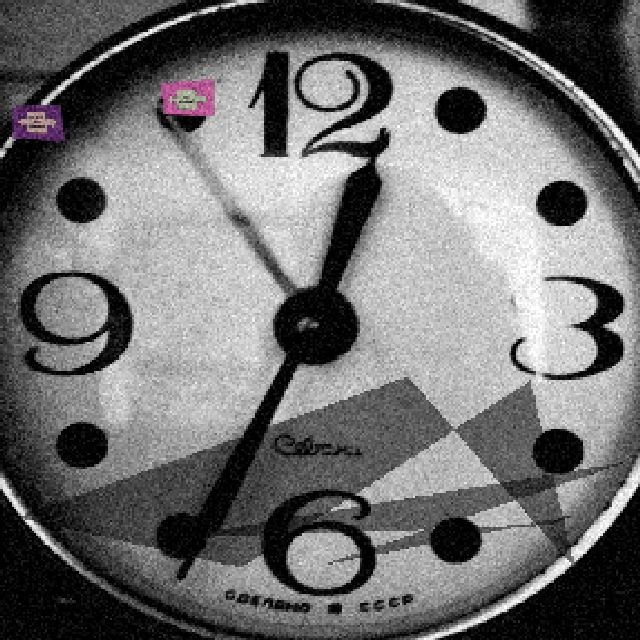DO_NOT_GO_AROUND: (16, 110, 57, 132)
GO_AROUND: (164, 86, 207, 109)
